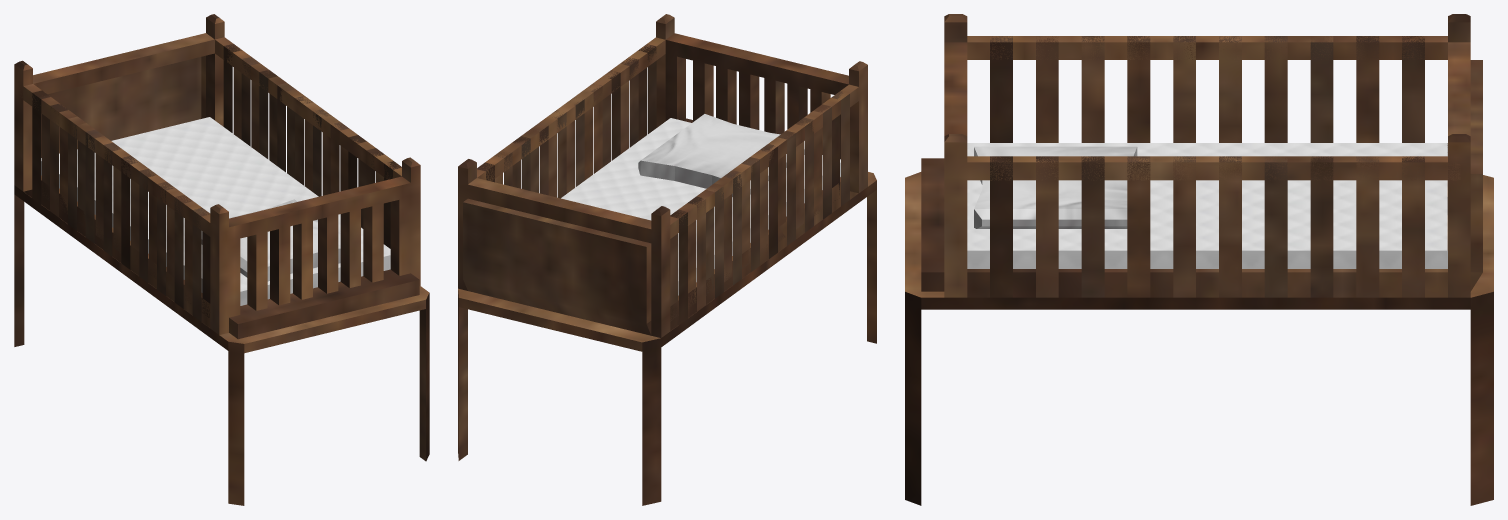
The model's file is cama_bebe.fbx.
3 renders of one model, left to right at view 1: azimuth 30°, elevation 25°; view 2: azimuth 150°, elevation 25°; view 3: azimuth 270°, elevation 25°, orthographic. The views are drawn at different scales.
Parts seen in each view (by area): view 1: cama_bebe; view 2: cama_bebe; view 3: cama_bebe.
Part boxes in pixels (<box>): cama_bebe: <box>14,14,429,505</box>; cama_bebe: <box>458,14,876,505</box>; cama_bebe: <box>905,14,1493,505</box>.
Size of the model in its own units: 149 by 203 by 294.
1 material, 1 textured.
